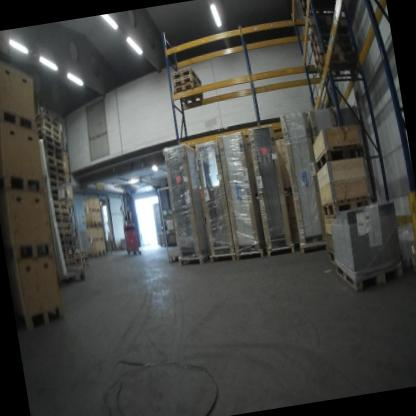pallet: (334, 252, 409, 296), (301, 21, 352, 54), (310, 37, 357, 72), (314, 51, 359, 86), (307, 29, 353, 60), (170, 81, 203, 109), (170, 64, 203, 87), (171, 76, 203, 98), (35, 122, 61, 147), (31, 110, 61, 131), (36, 131, 62, 153), (33, 117, 59, 138), (43, 148, 64, 165), (46, 152, 64, 171), (44, 140, 63, 157), (46, 160, 65, 177), (49, 186, 68, 200), (47, 176, 67, 188), (55, 228, 73, 240), (47, 170, 66, 181), (50, 193, 67, 205), (55, 220, 71, 232), (51, 207, 70, 217), (53, 200, 70, 211), (56, 236, 72, 247), (61, 259, 76, 268), (54, 215, 70, 223), (62, 252, 75, 261), (61, 245, 75, 253), (78, 247, 88, 256), (82, 255, 89, 263), (81, 263, 89, 268)
pallet_truck: (121, 221, 144, 260)
stillage: (152, 183, 176, 225), (160, 222, 181, 262)
